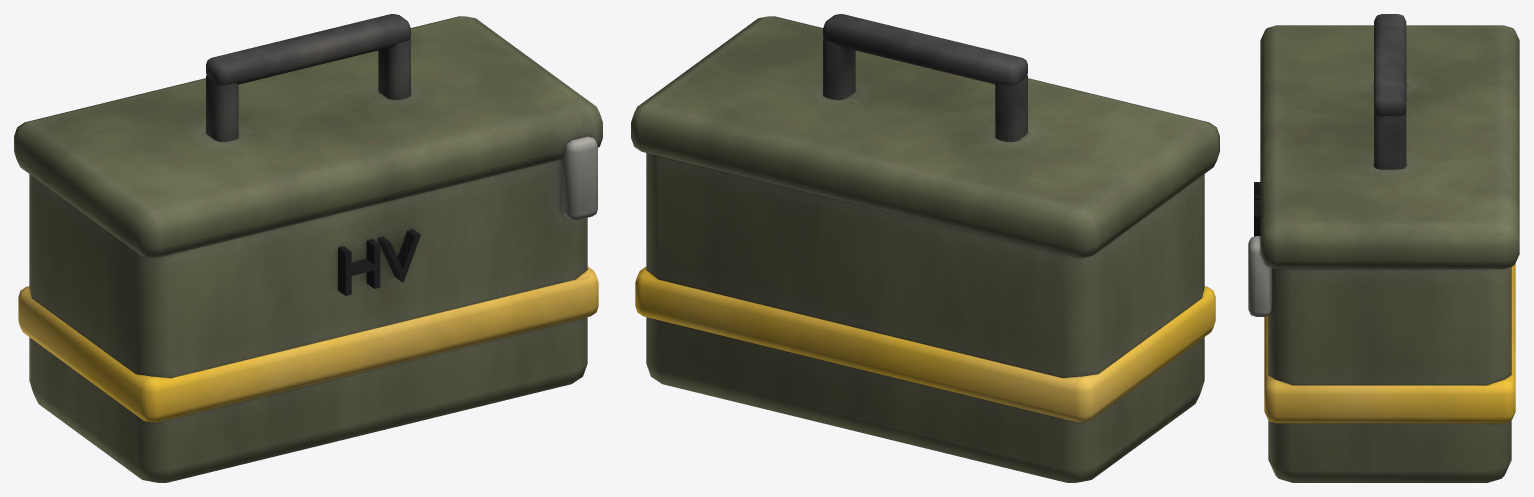
The model's file is ammo_heavy.fbx.
3 renders of one model, left to right at view 1: azimuth 30°, elevation 25°; view 2: azimuth 150°, elevation 25°; view 3: azimuth 270°, elevation 25°, orthographic. The views are drawn at different scales.
Visible parts, largest first — view 1: Body; view 2: Body; view 3: Body.
Part boxes in pixels (<box>): Body: <box>14,14,602,482</box>; Body: <box>631,14,1219,482</box>; Body: <box>1248,14,1519,482</box>.
Size of the model in its own units: 0.62 by 0.455 by 0.335.
1 material, 1 textured.
